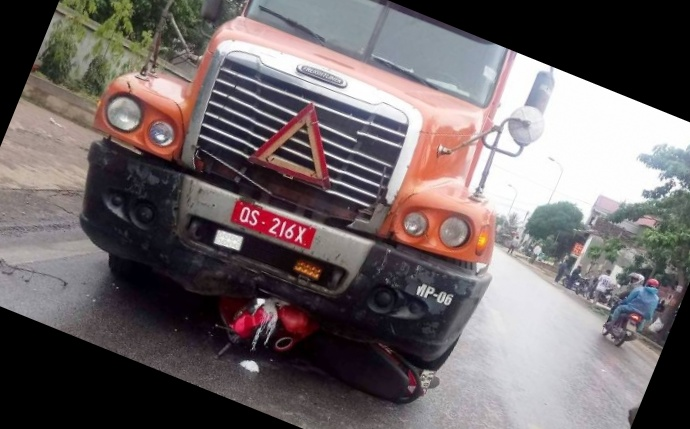plate: (236, 203, 311, 251)
